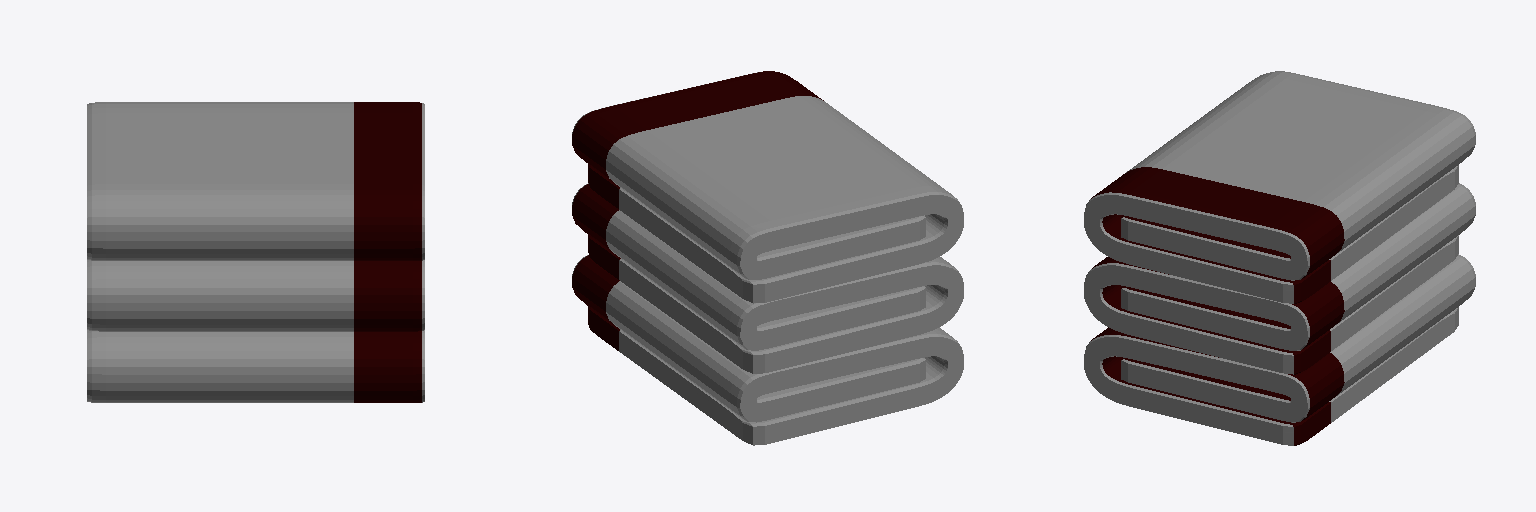
Rendered from Towel_513.obj.
3 renders of one model, left to right at view 1: azimuth 30°, elevation 25°; view 2: azimuth 150°, elevation 25°; view 3: azimuth 270°, elevation 25°, orthographic.
Visible parts, largest first — view 1: Line006, Line004, Line005; view 2: Line006, Line004, Line005; view 3: Line006, Line004, Line005.
Part boxes in pixels (x1,y1,x2,y2): Line006: (87,102,424,260); Line004: (87,330,424,402); Line005: (87,260,424,331); Line006: (572,71,963,303); Line004: (572,255,963,445); Line005: (572,183,963,373); Line006: (1084,71,1475,303); Line004: (1084,254,1475,445); Line005: (1084,183,1475,374).
Bounding box in the file's own units: 29.52 × 16.61 × 27.5.